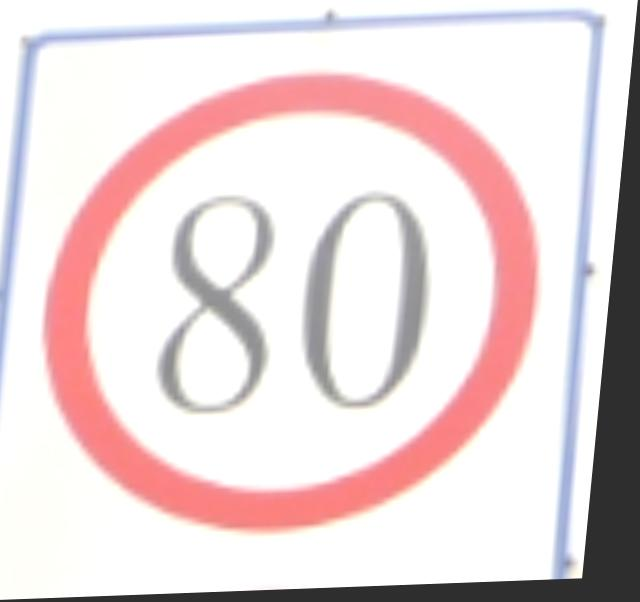limit80: (24, 55, 575, 548)
